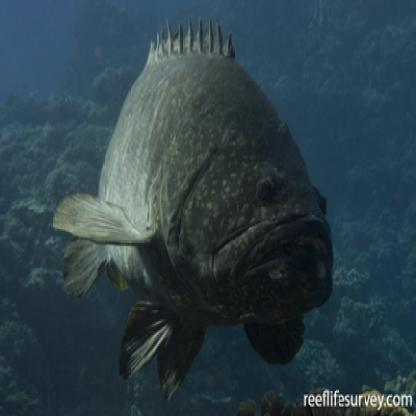grouper: (47, 10, 339, 400)
